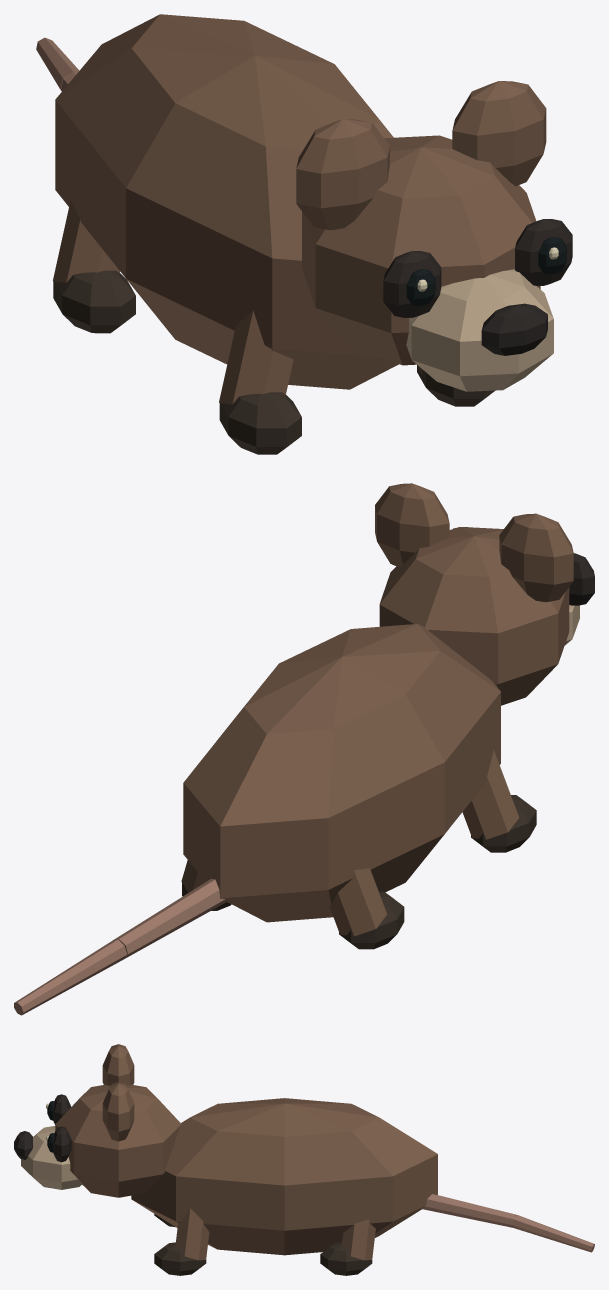
Rendered from fauna-field_rat.glb.
The picture shows the model from 3 angles, top to bottom: view 1: azimuth 30°, elevation 25°; view 2: azimuth 150°, elevation 25°; view 3: azimuth 270°, elevation 25°; orthographic projection. The views are drawn at different scales.
Visible parts, largest first — view 1: Fauna_field_rat; view 2: Fauna_field_rat; view 3: Fauna_field_rat.
Part boxes in pixels (x1,y1,x2,y2): Fauna_field_rat: (36,14,572,454); Fauna_field_rat: (14,483,594,1015); Fauna_field_rat: (14,1044,594,1275).
Bounding box in the file's own units: 0.6371 × 0.86 × 2.45.
